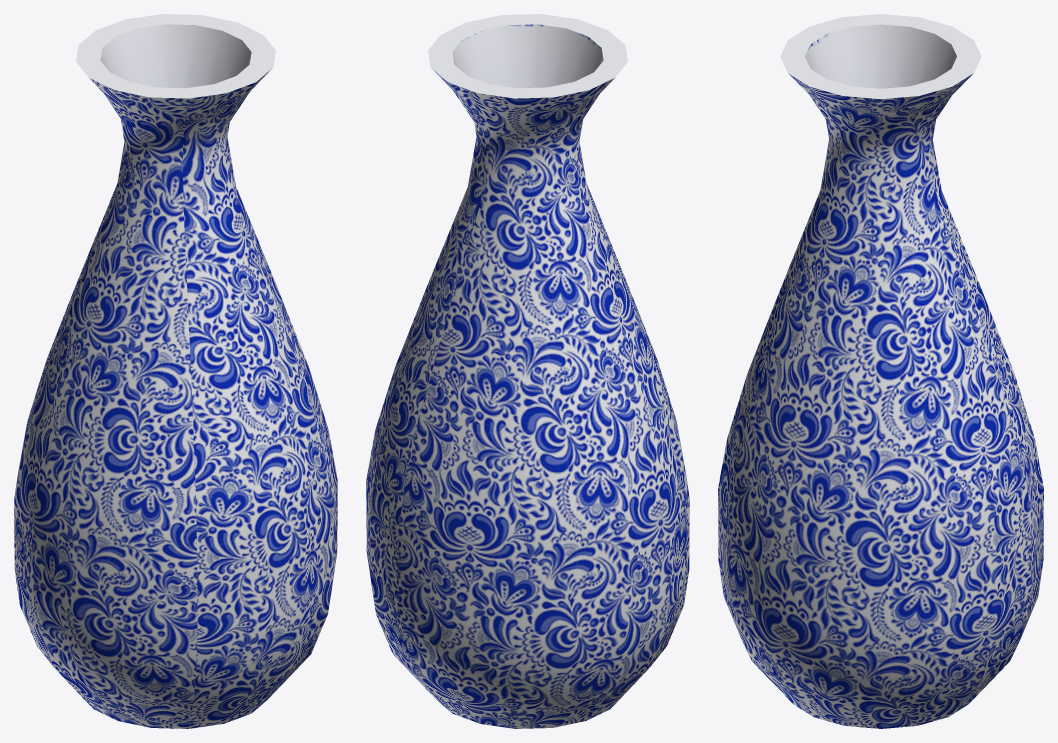
Rendered from jar.fbx.
The picture shows the model from 3 angles, left to right: view 1: azimuth 30°, elevation 25°; view 2: azimuth 150°, elevation 25°; view 3: azimuth 270°, elevation 25°; orthographic projection.
Visible parts, largest first — view 1: Jar:pCylinder1; view 2: Jar:pCylinder1; view 3: Jar:pCylinder1.
Boxes of the visible parts, left/top/right/bottom form: Jar:pCylinder1: left=14, top=14, right=337, bottom=728; Jar:pCylinder1: left=366, top=14, right=689, bottom=728; Jar:pCylinder1: left=718, top=14, right=1043, bottom=728.
Size of the model in its own units: 2.35 by 5.04 by 2.35.
